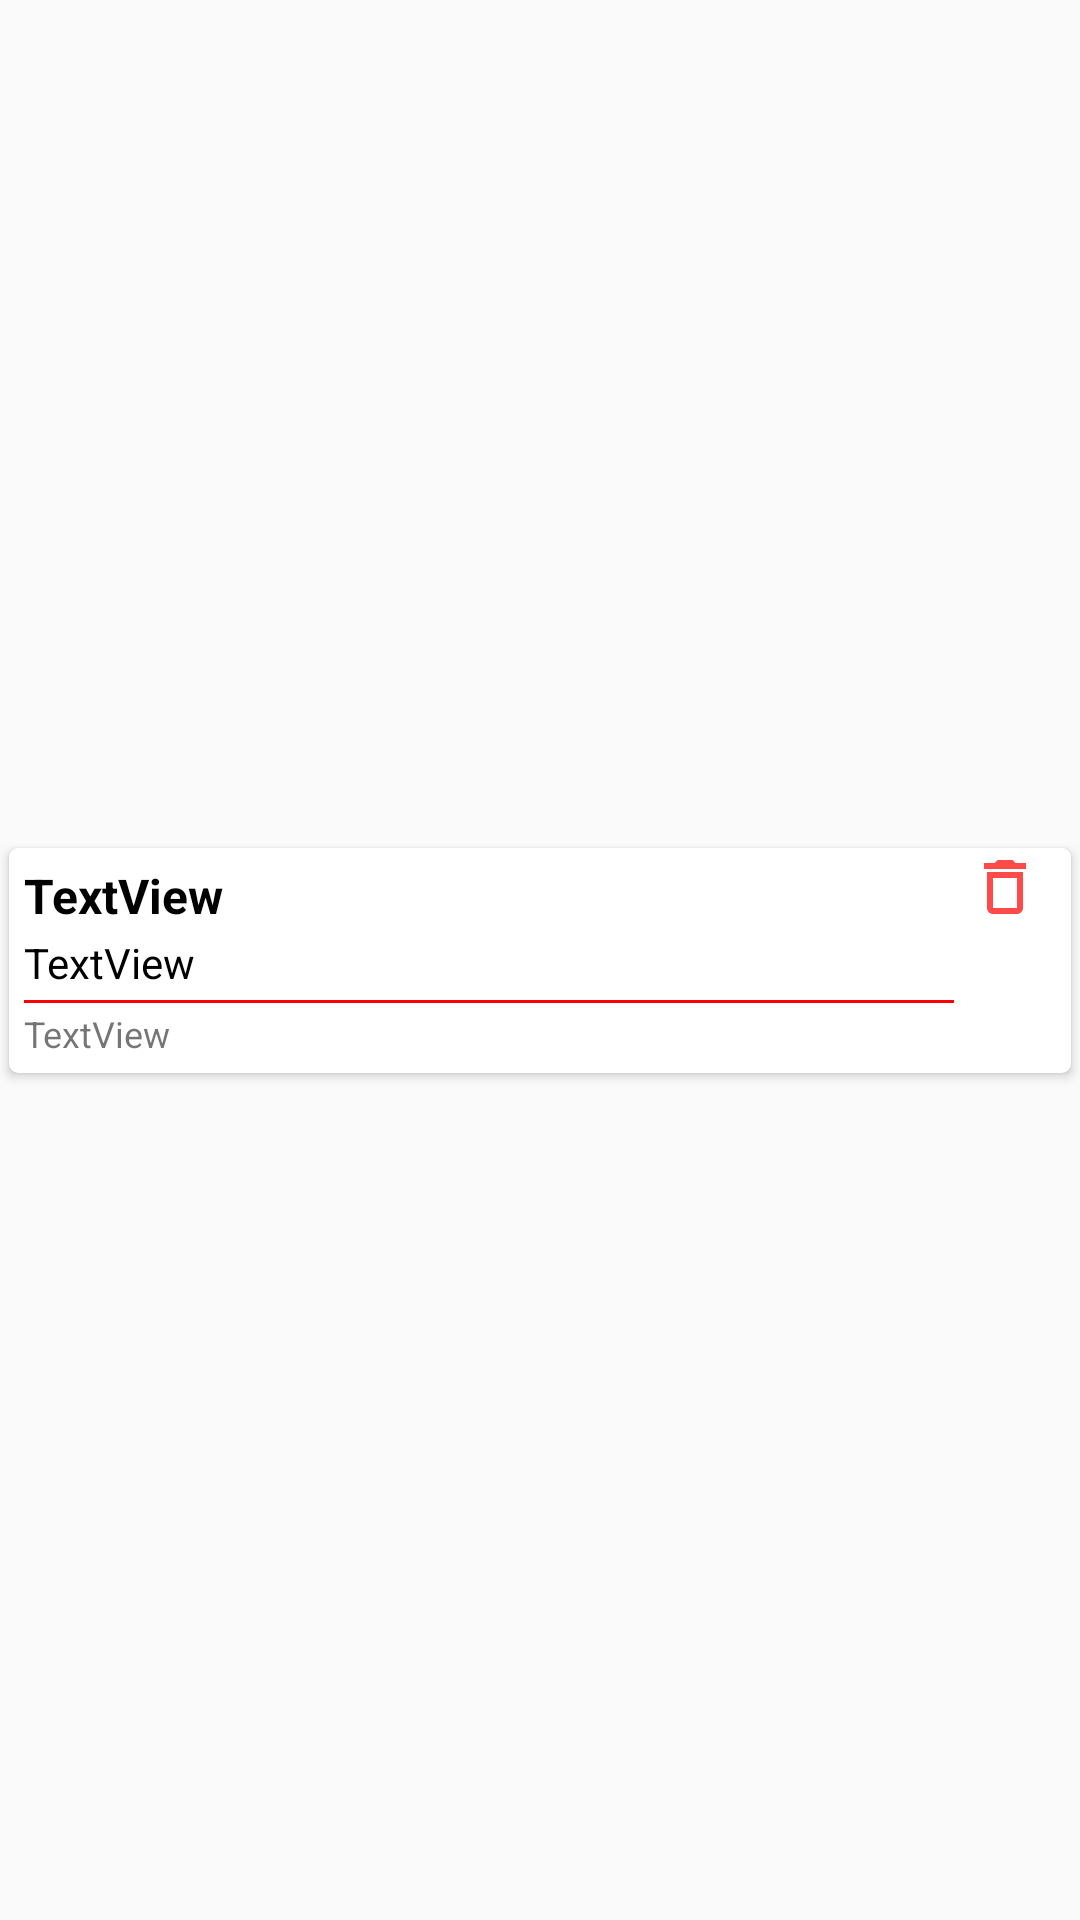

Named icons in this screenshot (1080 × 1920) and their bounding boxes, {"left": x1, "top": y1, "right": x2, "bottom": y2}:
delete: {"left": 984, "top": 860, "right": 1026, "bottom": 914}
